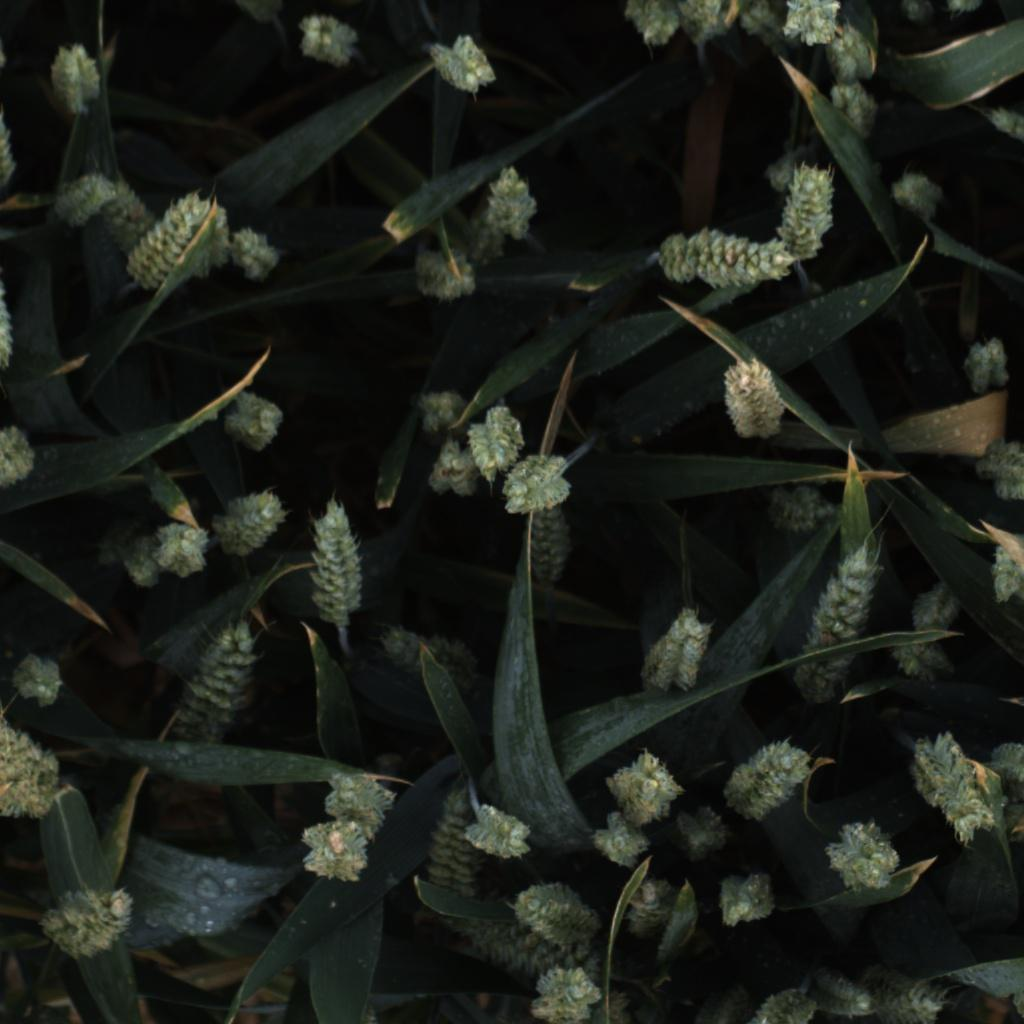0-0: (431, 889, 622, 989), (790, 537, 884, 709), (166, 615, 267, 752), (657, 221, 802, 300), (898, 731, 995, 848), (122, 185, 213, 296), (36, 874, 137, 965), (91, 520, 211, 596), (376, 618, 490, 696), (306, 492, 370, 629), (720, 733, 817, 819), (675, 0, 794, 70), (0, 707, 67, 829), (710, 351, 794, 445), (771, 161, 844, 268), (423, 777, 482, 903), (206, 196, 287, 287), (638, 600, 715, 695), (820, 815, 906, 898), (601, 741, 684, 824), (513, 882, 607, 955), (206, 483, 289, 563), (54, 169, 156, 231), (321, 759, 400, 836), (528, 968, 635, 1024), (291, 819, 376, 889), (459, 402, 526, 485), (422, 30, 499, 102), (500, 447, 573, 520), (873, 963, 961, 1023), (467, 792, 537, 867), (709, 866, 788, 930), (664, 797, 735, 867), (42, 36, 106, 113), (616, 876, 687, 945), (482, 162, 541, 242), (9, 644, 78, 712), (224, 385, 288, 458), (412, 242, 482, 308), (524, 503, 577, 590), (880, 163, 951, 227), (292, 8, 361, 73), (584, 807, 654, 870), (765, 482, 839, 541), (805, 966, 879, 1024), (888, 634, 954, 699), (822, 77, 885, 145), (823, 26, 886, 91), (958, 332, 1017, 401), (426, 435, 484, 505), (619, 0, 684, 58), (779, 0, 849, 53), (749, 971, 821, 1022), (0, 420, 39, 512), (975, 438, 1024, 511), (975, 101, 1024, 173), (678, 976, 751, 1024), (410, 387, 471, 440), (987, 527, 1024, 612), (910, 578, 962, 637), (988, 732, 1024, 805), (227, 0, 289, 30), (0, 263, 16, 369), (894, 0, 936, 27), (944, 0, 986, 17)
